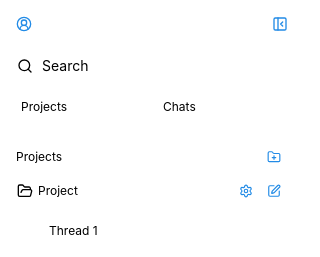
WorkspaceSidebar project reorder › collapses a project when its title row is clicked
expect the icon with class "lucide-folder-open" is shown: met, box [17,183,33,199]
expect the button "Thread 1" is shown: met, box [48,222,256,240]
Click the button with aria-label "Collapse Project" at (147, 191), box [38,177,256,205]
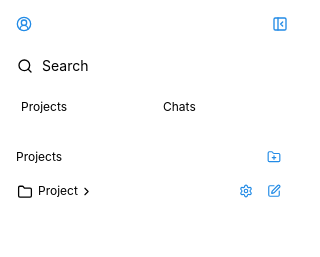
expect the icon with class "lucide-folder" is shown: met, box [17,184,33,200]
expect the button "Thread 1" is gone: met
Click the button named "Collapse Project" at (147, 191), box [38,177,256,205]
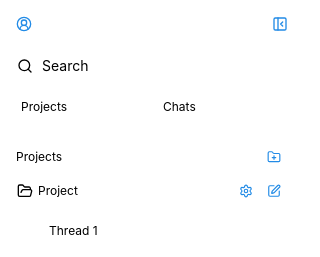
expect the button "Thread 1" is shown: met, box [48,222,256,240]
